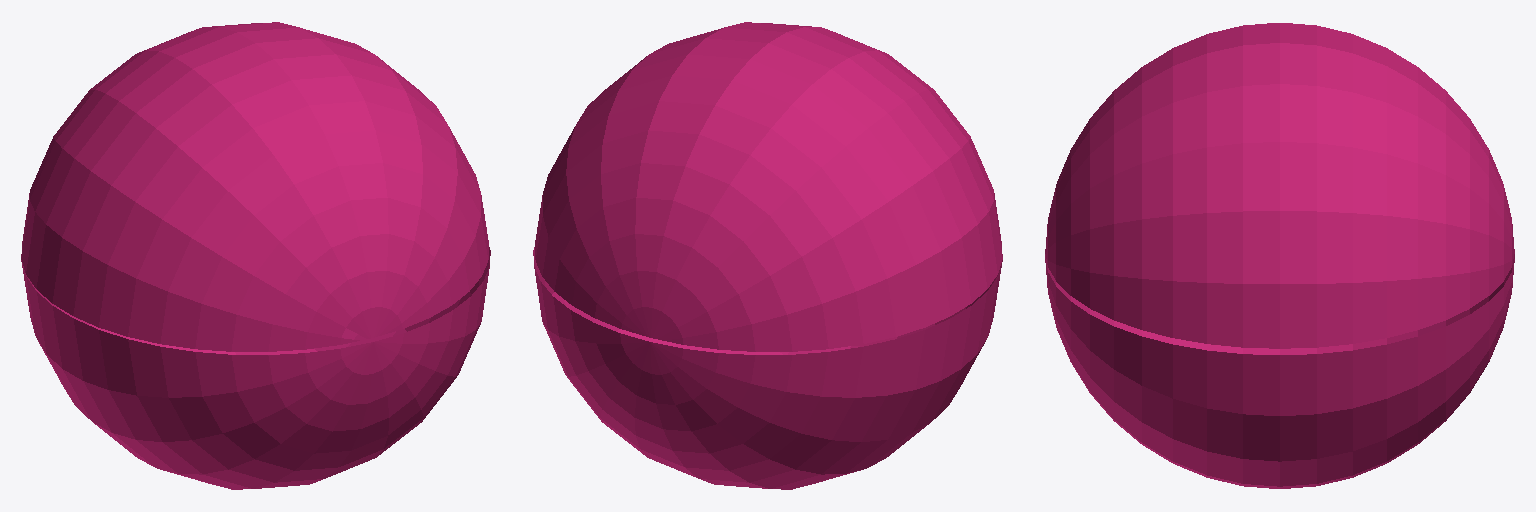
File: Ball.obj
3 renders of one model, left to right at view 1: azimuth 30°, elevation 25°; view 2: azimuth 150°, elevation 25°; view 3: azimuth 270°, elevation 25°, orthographic.
Parts seen in each view (by area): view 1: polySurface1; view 2: polySurface1; view 3: polySurface1.
Boxes of the visible parts, x1=… form: polySurface1: x1=21, y1=22, x2=490, y2=489; polySurface1: x1=533, y1=22, x2=1002, y2=489; polySurface1: x1=1045, y1=23, x2=1514, y2=488.
Bounding box in the file's own units: 2.32 × 2.32 × 2.32.